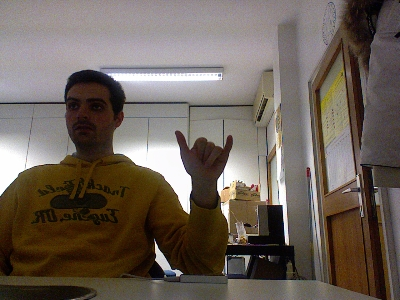六六六: (172, 129, 233, 181)
